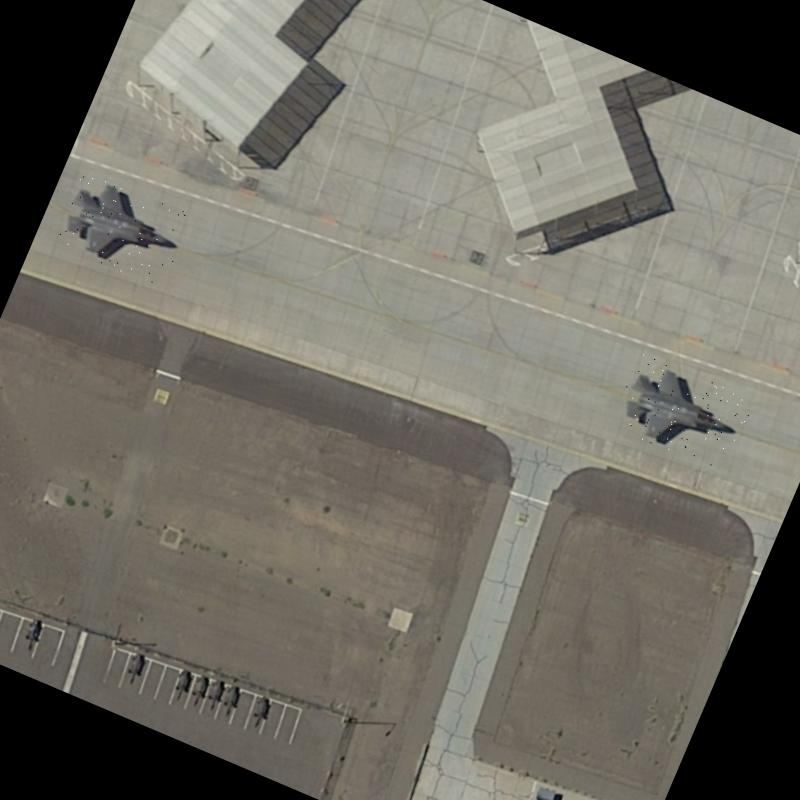A15: (608, 351, 756, 475), (52, 167, 194, 290)
